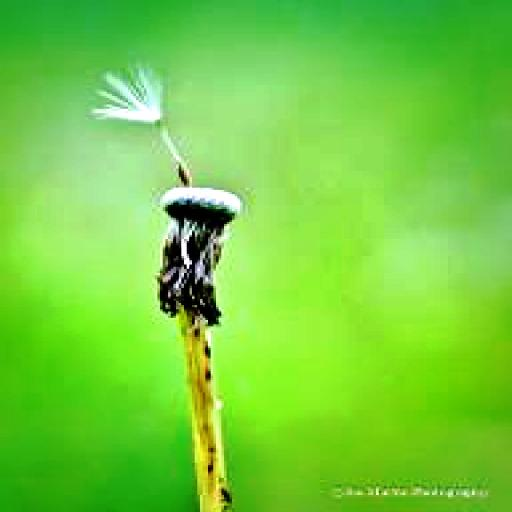dandelion: (91, 62, 168, 119)
